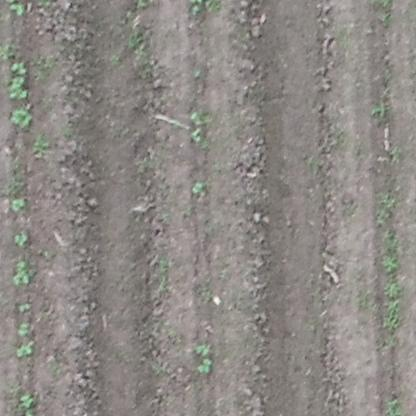vc: (190, 111, 211, 144), (11, 260, 32, 288), (7, 77, 28, 100), (8, 109, 35, 126), (14, 341, 37, 358), (9, 197, 32, 213), (190, 179, 207, 199), (14, 229, 29, 249), (8, 2, 30, 15), (197, 357, 212, 376), (19, 390, 33, 408), (17, 300, 33, 314), (193, 343, 213, 354), (10, 64, 28, 74), (16, 322, 31, 333)
